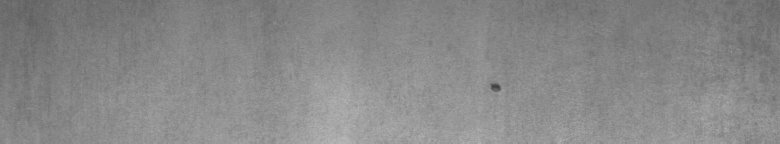fi: (488, 76, 505, 100)
